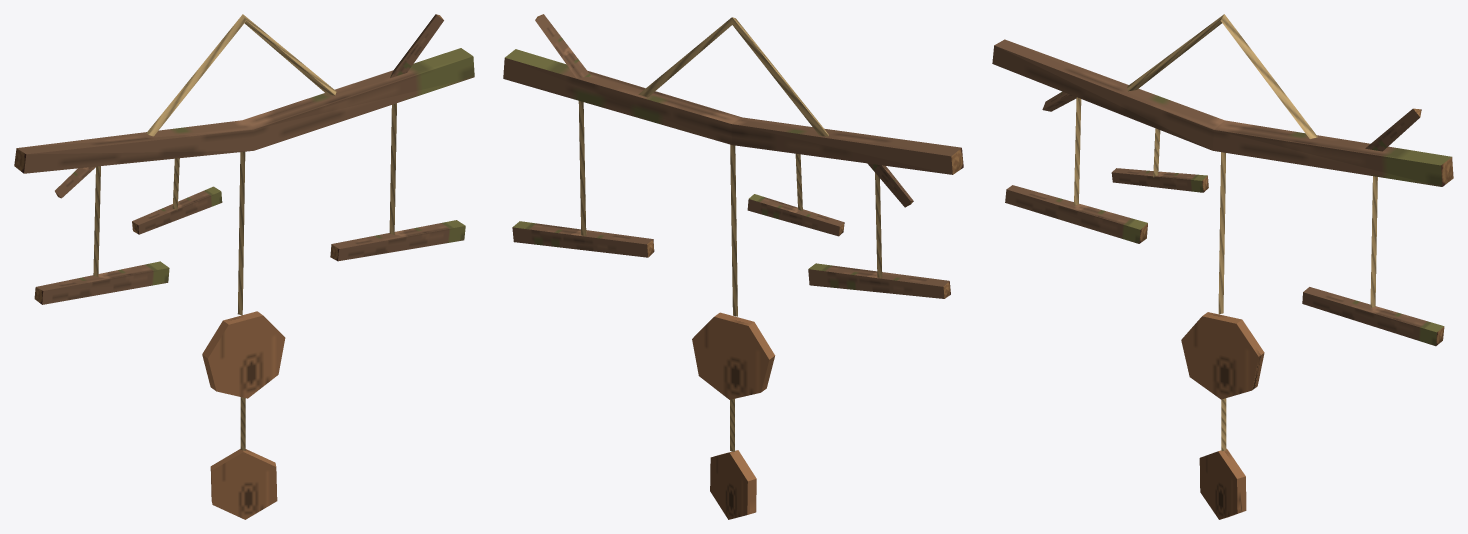
Rendered from SM_MK17_MobileTwigs.fbx.
The picture shows the model from 3 angles, left to right: view 1: azimuth 30°, elevation 25°; view 2: azimuth 150°, elevation 25°; view 3: azimuth 330°, elevation 25°; orthographic projection.
Visible parts, largest first — view 1: MK17_Mobile; view 2: MK17_Mobile; view 3: MK17_Mobile.
Part boxes in pixels (bbox=[...]): MK17_Mobile: bbox=[14, 14, 474, 519]; MK17_Mobile: bbox=[503, 14, 963, 519]; MK17_Mobile: bbox=[992, 14, 1453, 519].
Bounding box in the file's own units: 0.624 × 0.6651 × 0.0472.
